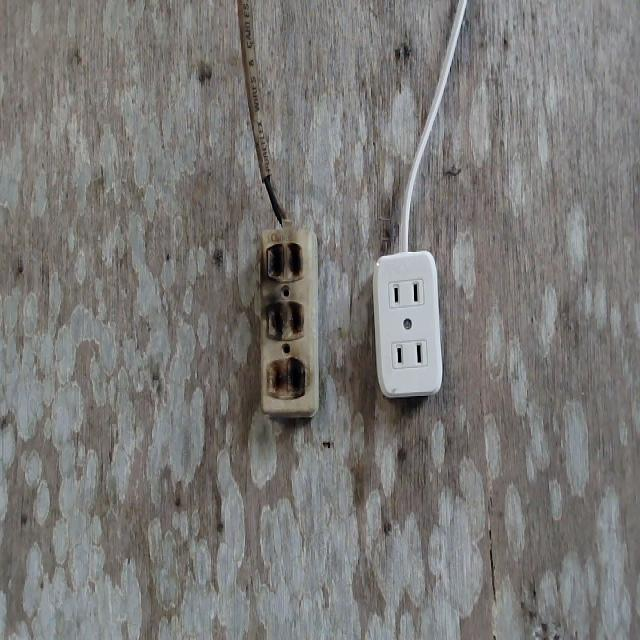-: (260, 236, 309, 403)
